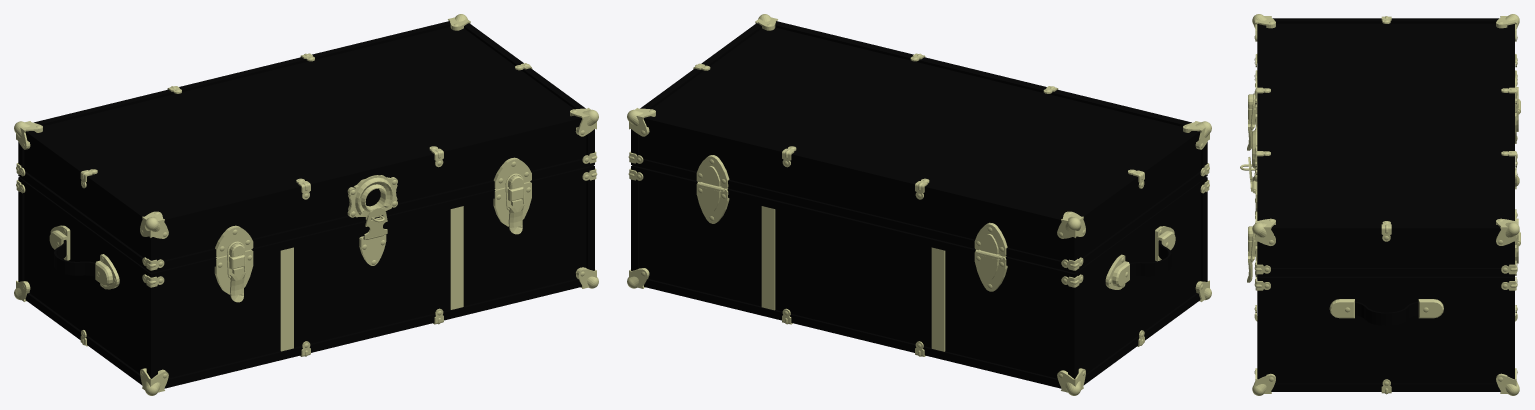
Rendered from sweethome3d-katorlegaz-trunck-67.glb.
The picture shows the model from 3 angles, left to right: view 1: azimuth 30°, elevation 25°; view 2: azimuth 150°, elevation 25°; view 3: azimuth 270°, elevation 25°; orthographic projection. The views are drawn at different scales.
Parts seen in each view (by area): view 1: Trunk_LG_sides, Trunk_LG_edges, Trunk_LG_hdware_Trunk_LG_hdware_Trunk_metal, Trunk_LG_hdware_Trunk_LG_hdware_Trunk_surface; view 2: Trunk_LG_sides, Trunk_LG_edges, Trunk_LG_hdware_Trunk_LG_hdware_Trunk_metal, Trunk_LG_hdware_Trunk_LG_hdware_Trunk_surface; view 3: Trunk_LG_sides, Trunk_LG_edges, Trunk_LG_hdware_Trunk_LG_hdware_Trunk_metal, Trunk_LG_hdware_Trunk_LG_hdware_Trunk_surface.
Part boxes in pixels (<box>): Trunk_LG_sides: <box>24,27,586,378</box>; Trunk_LG_edges: <box>18,21,594,388</box>; Trunk_LG_hdware_Trunk_LG_hdware_Trunk_metal: <box>14,14,598,395</box>; Trunk_LG_hdware_Trunk_LG_hdware_Trunk_surface: <box>54,240,95,276</box>; Trunk_LG_sides: <box>639,27,1200,378</box>; Trunk_LG_edges: <box>631,21,1207,388</box>; Trunk_LG_hdware_Trunk_LG_hdware_Trunk_metal: <box>627,14,1211,395</box>; Trunk_LG_hdware_Trunk_LG_hdware_Trunk_surface: <box>1129,240,1171,276</box>; Trunk_LG_sides: <box>1266,23,1507,383</box>; Trunk_LG_edges: <box>1257,18,1514,391</box>; Trunk_LG_hdware_Trunk_LG_hdware_Trunk_metal: <box>1240,14,1520,395</box>; Trunk_LG_hdware_Trunk_LG_hdware_Trunk_surface: <box>1355,301,1418,325</box>.
Size of the model in its own units: 2.01 by 0.6917 by 1.02.
